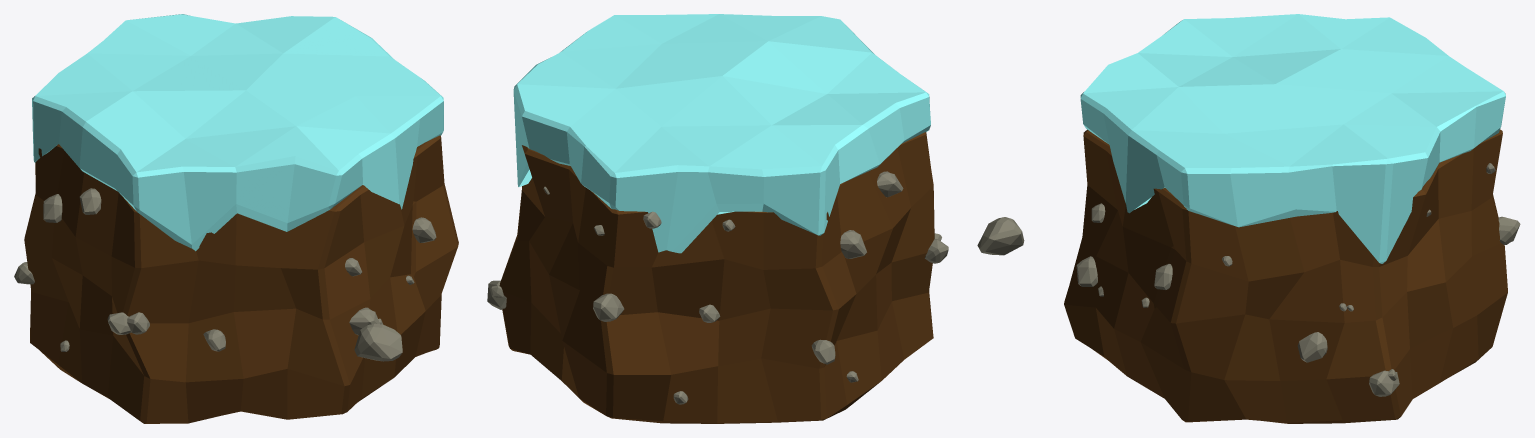
File: ice tile.fbx
3 views of the same model, side by side, from view 1: azimuth 30°, elevation 25°; view 2: azimuth 150°, elevation 25°; view 3: azimuth 270°, elevation 25° (orthographic). The views are drawn at different scales.
Visible parts, largest first — view 1: bottom, top, stone, bottom|stone|Dupli|9, bottom|stone|Dupli|34, bottom|stone|Dupli|8, bottom|stone|Dupli|24, bottom|stone|Dupli|37; view 2: bottom, top, bottom|stone|Dupli|5, bottom|stone|Dupli|9, bottom|stone|Dupli|8, bottom|stone|Dupli|7; view 3: bottom, top, stone, bottom|stone|Dupli|14, bottom|stone|Dupli|20, bottom|stone|Dupli|34.
Part boxes in pixels (box(x1,y1,x2,y2)): bottom: box(24, 135, 458, 423); top: box(32, 14, 443, 251); stone: box(354, 323, 402, 361); bottom|stone|Dupli|9: box(43, 194, 62, 222); bottom|stone|Dupli|34: box(349, 307, 379, 335); bottom|stone|Dupli|8: box(79, 188, 101, 214); bottom|stone|Dupli|24: box(412, 217, 436, 242); bottom|stone|Dupli|37: box(107, 312, 131, 334); bottom: box(499, 132, 934, 423); top: box(513, 14, 930, 253); bottom|stone|Dupli|5: box(593, 293, 624, 321); bottom|stone|Dupli|9: box(840, 230, 866, 258); bottom|stone|Dupli|8: box(877, 171, 903, 197); bottom|stone|Dupli|7: box(811, 339, 835, 364); bottom: box(1064, 129, 1507, 423); top: box(1080, 14, 1505, 263); stone: box(977, 217, 1024, 255); bottom|stone|Dupli|14: box(1297, 332, 1327, 362); bottom|stone|Dupli|20: box(1369, 370, 1399, 396); bottom|stone|Dupli|34: box(1076, 256, 1097, 286).
Size of the model in its own units: 197 by 143 by 256.
